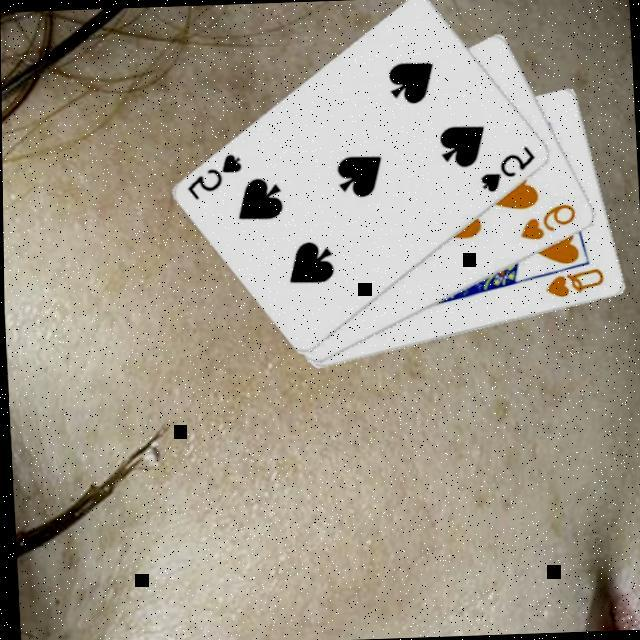5S: (180, 147, 246, 201), (474, 140, 539, 193)
9H: (514, 198, 579, 242)
QH: (540, 263, 606, 299)
